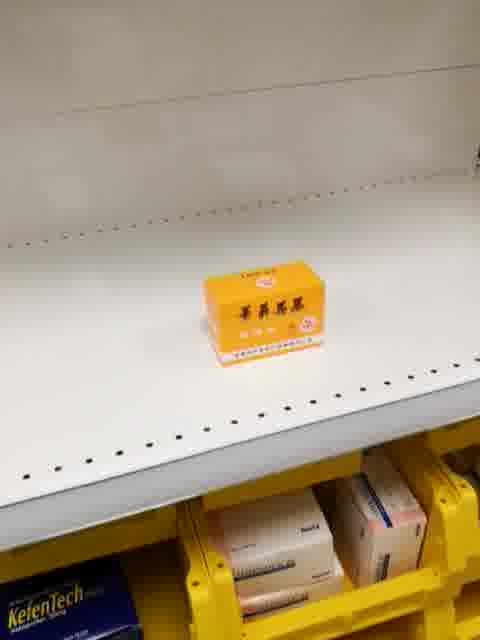jasminetea: (202, 261, 326, 368)
